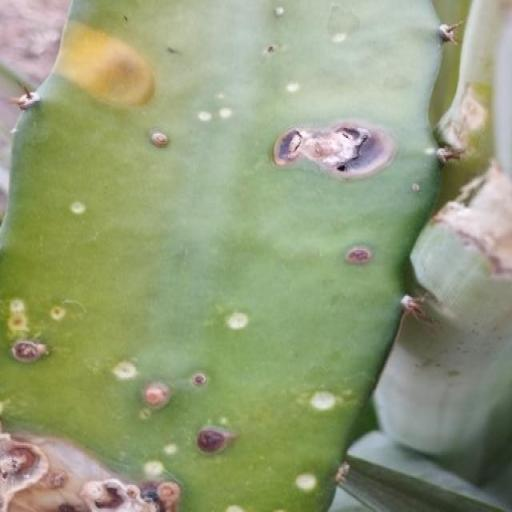stemcanker: (394, 207, 424, 240), (279, 424, 301, 452), (463, 293, 483, 323), (436, 392, 457, 419), (229, 471, 251, 494), (304, 433, 324, 457), (159, 457, 181, 477), (324, 172, 344, 194), (358, 117, 377, 138), (212, 428, 230, 446), (383, 161, 400, 180), (93, 277, 109, 297)
